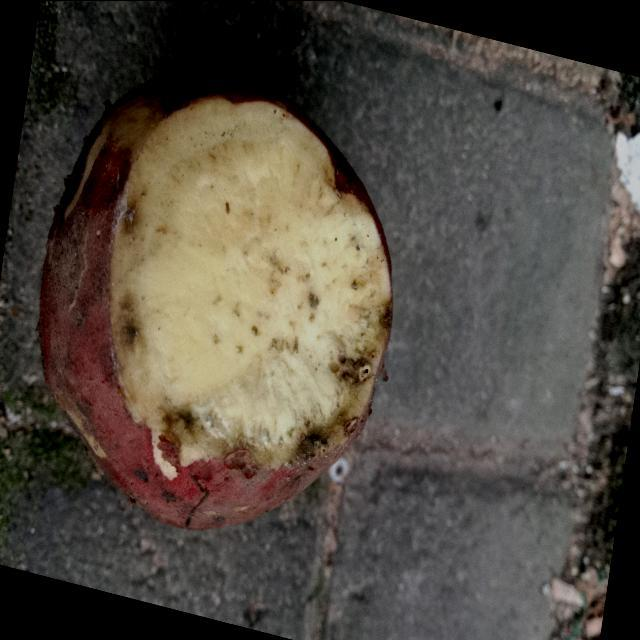Sick Sweet Potato_Tuber Rot: (112, 97, 391, 467)
